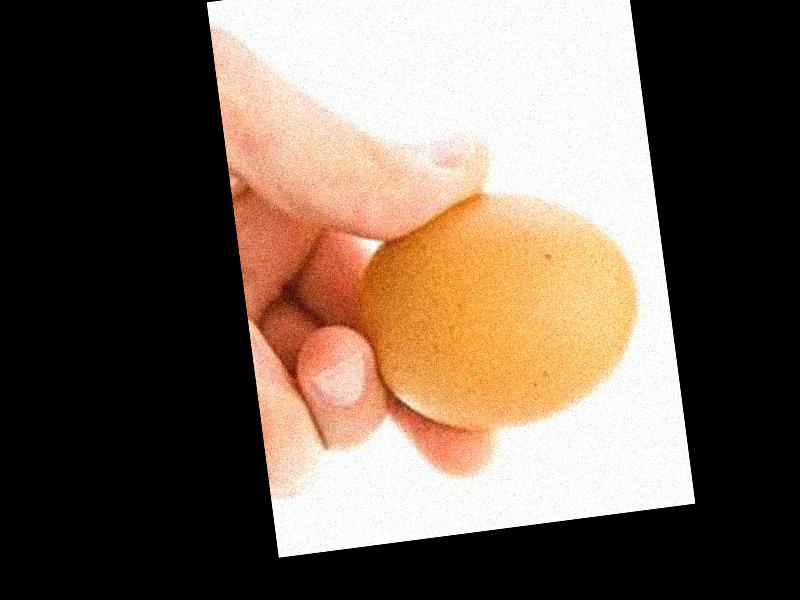Eggs: (352, 175, 654, 445)
